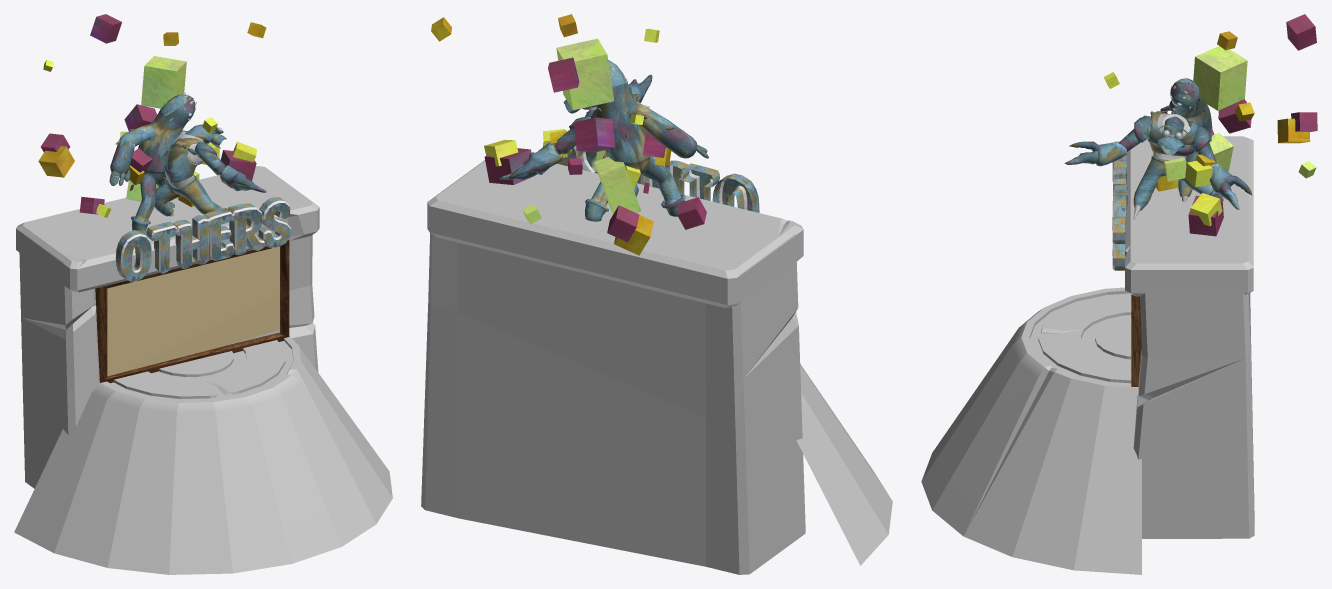
File: Str_Stand_Others_02_Art.fbx
The picture shows the model from 3 angles, left to right: view 1: azimuth 30°, elevation 25°; view 2: azimuth 150°, elevation 25°; view 3: azimuth 270°, elevation 25°; orthographic projection. The views are drawn at different scales.
Parts seen in each view (by area): view 1: Str_Stand_Others_02; view 2: Str_Stand_Others_02; view 3: Str_Stand_Others_02.
Boxes of the visible parts, x1,y1,x2,y2 form: Str_Stand_Others_02: (14, 14, 392, 574); Str_Stand_Others_02: (421, 14, 892, 574); Str_Stand_Others_02: (921, 14, 1317, 574).
Size of the model in its own units: 1541 by 1767 by 1383.
